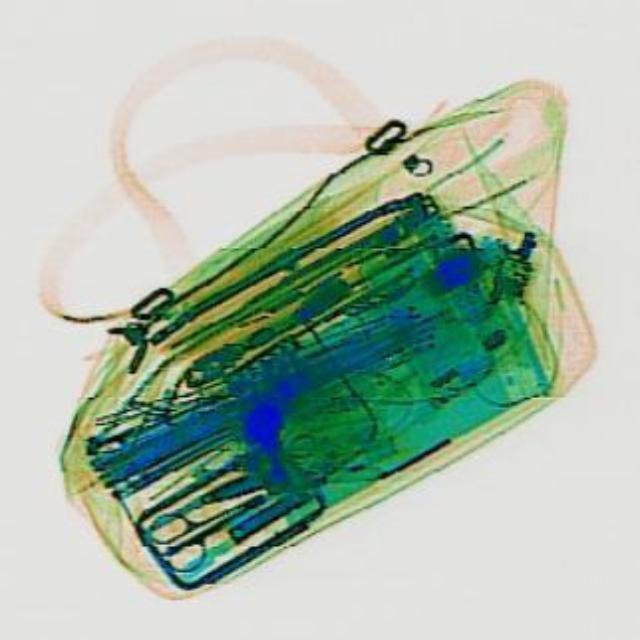Scissors: (131, 468, 279, 580)
